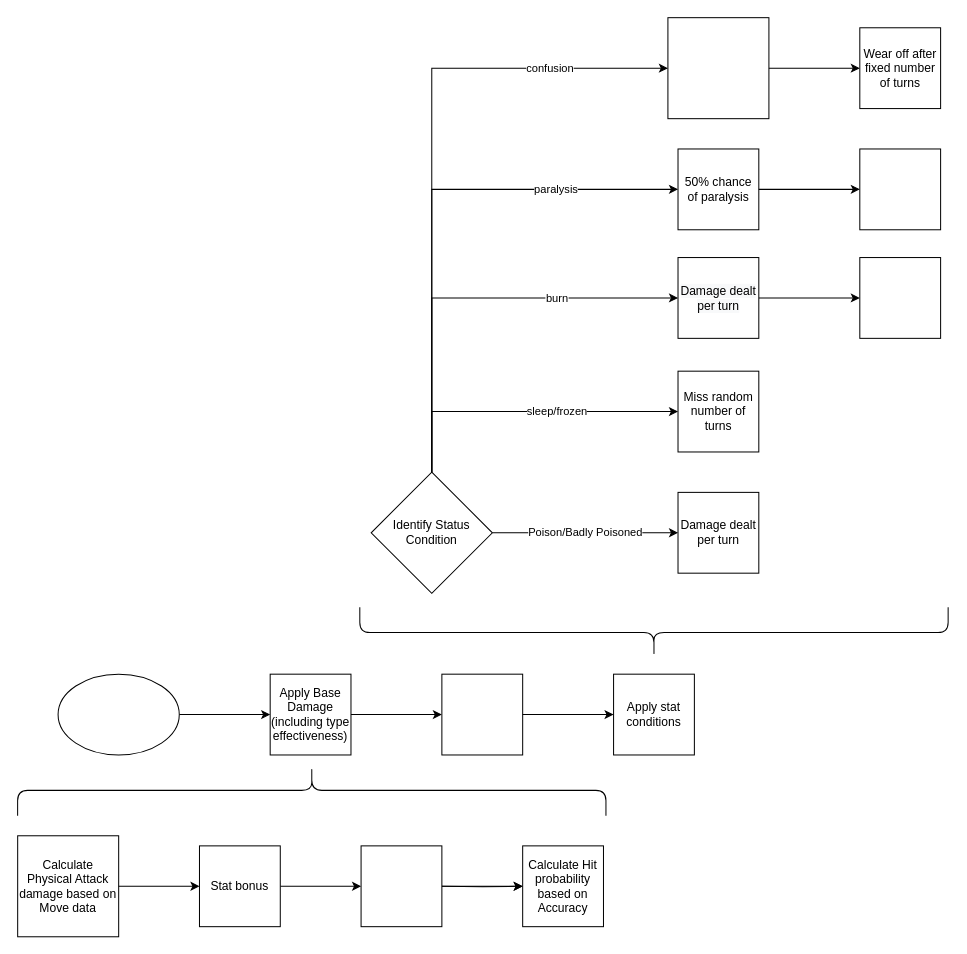
Image size: 967x954. Some labels were removed from this diagram. Each missing label, with the centre of its shape:
"50% chance of hitting self (same dmg as attack; base power 50 otherwise)" goes at (x=718, y=68).
"Apply Stat changes (player & opponent)" goes at (x=482, y=714).
"Calculate type effectiveness" goes at (x=401, y=886).
"Half Attack Stat" goes at (x=900, y=297).
"Half Speed" goes at (x=900, y=189).
"Start" goes at (x=118, y=714).
